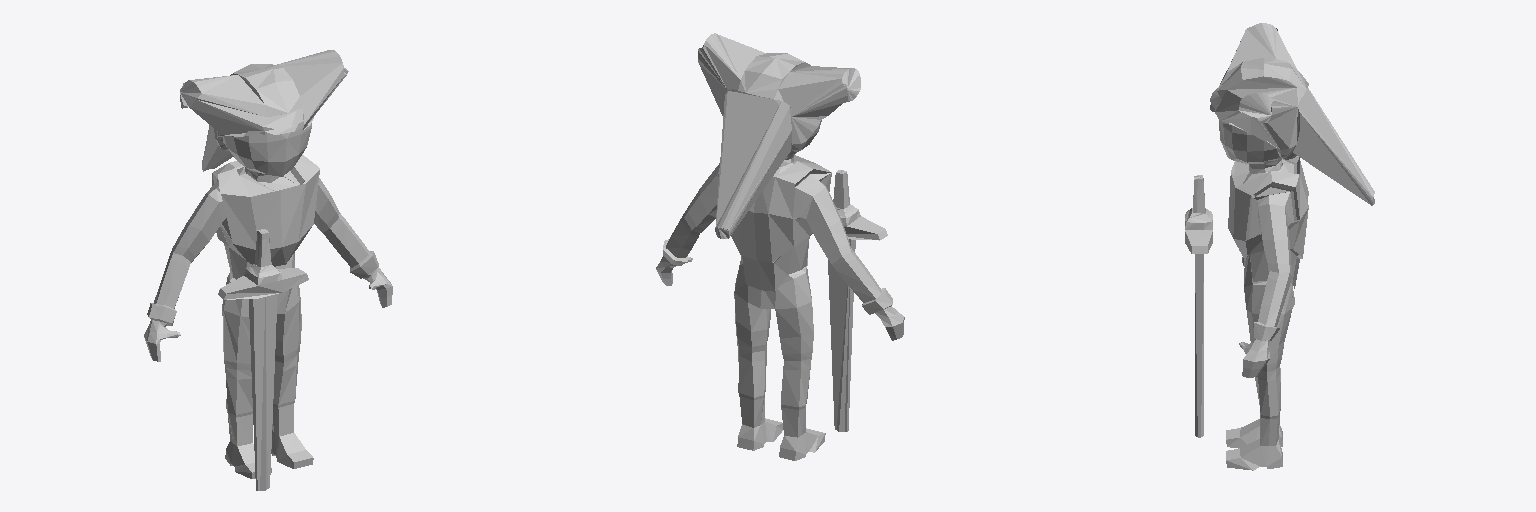
3 renders of one model, left to right at view 1: azimuth 30°, elevation 25°; view 2: azimuth 150°, elevation 25°; view 3: azimuth 270°, elevation 25°, orthographic.
Parts seen in each view (by area): view 1: Stat_Cube.002; view 2: Stat_Cube.002; view 3: Stat_Cube.002.
Boxes of the visible parts, box(x1,y1,x2,y2) form: Stat_Cube.002: box(144, 50, 392, 490); Stat_Cube.002: box(656, 33, 904, 460); Stat_Cube.002: box(1185, 23, 1374, 470).
Size of the model in its own units: 6.48 by 10.09 by 4.39.